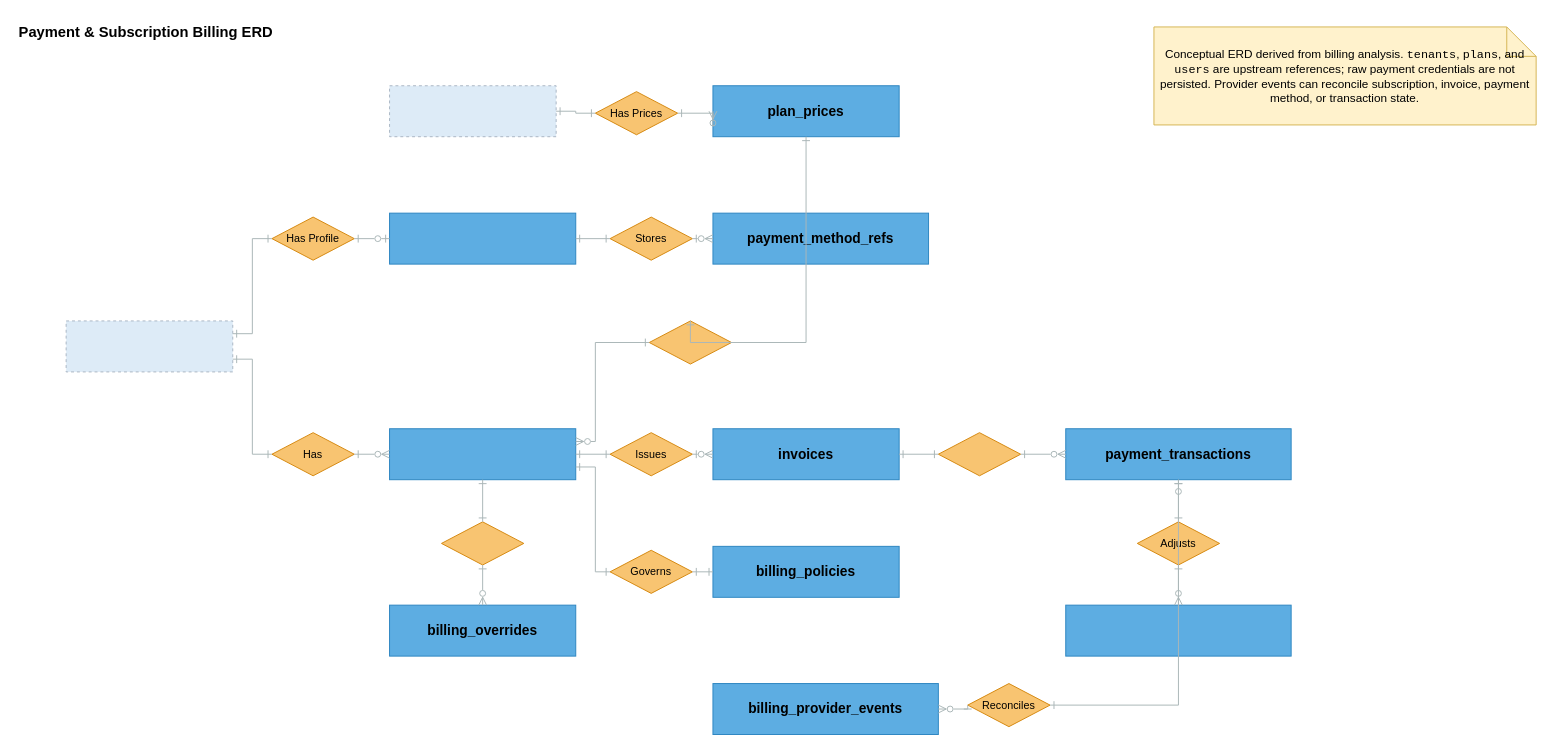
Image size: 1553x752. Some labels were removed from this diagram. The shapes that lost their labels are listed below. From the top down, each one's box as (x1, y1, x2, y2) in pixels, then its label:
(389, 85, 556, 137): plans
(389, 212, 576, 264): billing_profiles
(65, 320, 233, 372): tenants
(648, 320, 732, 364): Prices
(389, 428, 576, 480): subscriptions
(937, 432, 1021, 476): Paid By
(441, 521, 524, 565): Overrides
(1065, 604, 1291, 656): billing_adjustments
